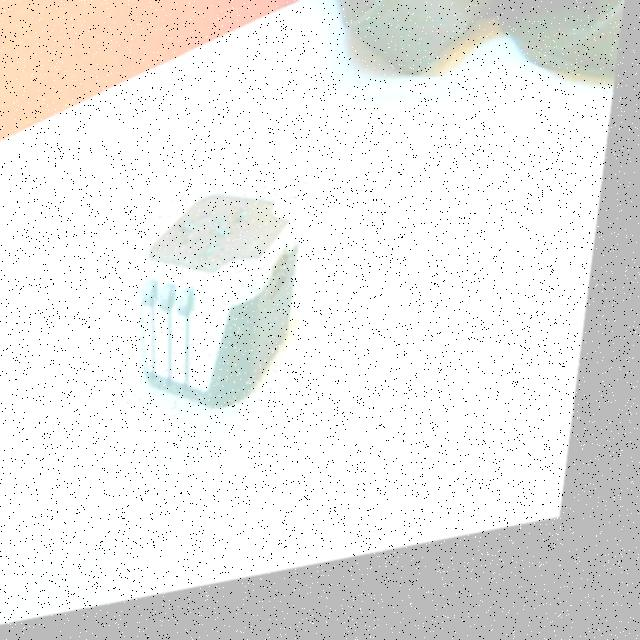adapter: (131, 186, 314, 434)
